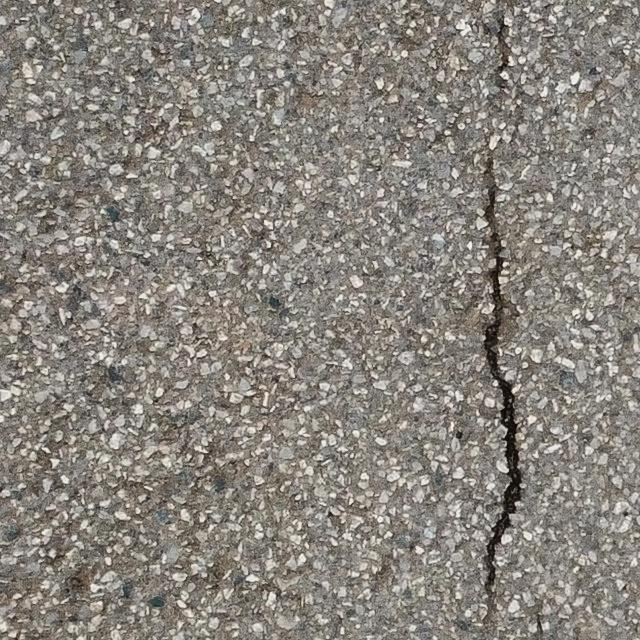LongitudinalCrack: (480, 157, 524, 591)
